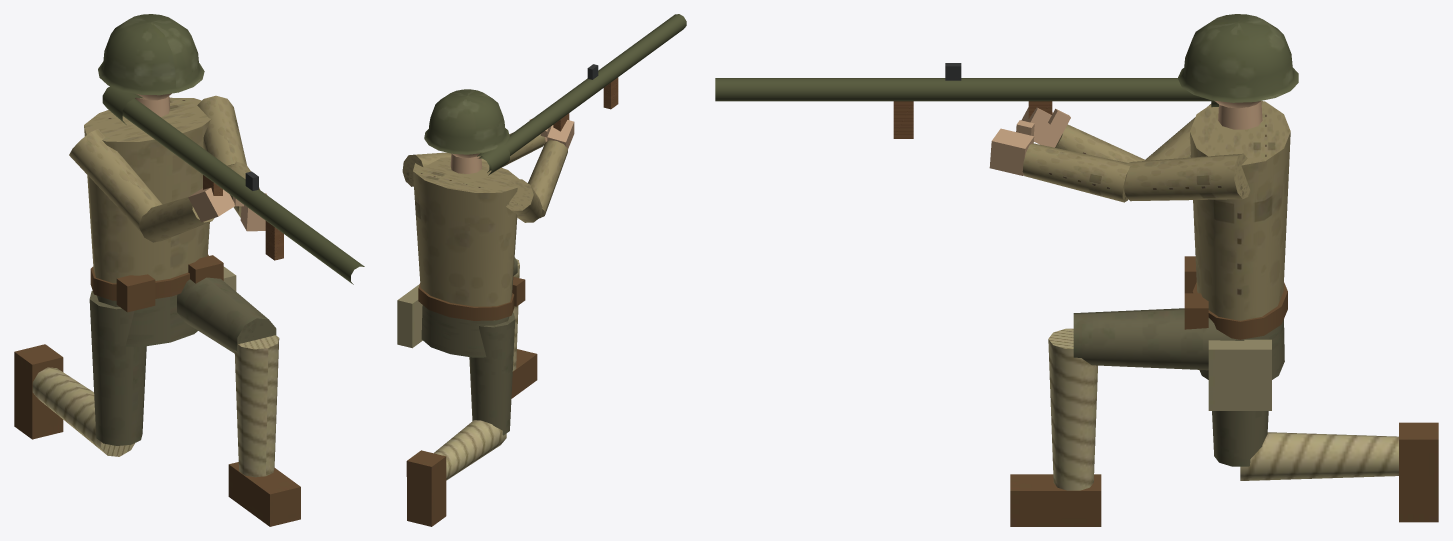
The model's file is infantry-2.glb.
The picture shows the model from 3 angles, left to right: view 1: azimuth 30°, elevation 25°; view 2: azimuth 150°, elevation 25°; view 3: azimuth 270°, elevation 25°; orthographic projection. The views are drawn at different scales.
Parts seen in each view (by area): view 1: body, shin_left, weapon, head, leg_right, shin_right, leg_left, arm_right, forearm_right, arm_left, forearm_left; view 2: body, weapon, shin_right, head, leg_right, forearm_right, shin_left, arm_right, arm_left, forearm_left; view 3: body, weapon, shin_left, shin_right, head, leg_left, forearm_left, arm_left, leg_right, forearm_right, arm_right.
Boxes of the visible parts, x1,y1,x2,y2 form: body: [84, 97, 236, 346]; shin_left: [228, 335, 300, 526]; weapon: [102, 86, 364, 284]; head: [98, 14, 204, 116]; leg_right: [89, 291, 146, 445]; shin_right: [14, 344, 134, 456]; leg_left: [177, 277, 276, 353]; arm_right: [69, 129, 162, 232]; forearm_right: [139, 187, 234, 242]; arm_left: [197, 95, 246, 165]; forearm_left: [227, 161, 266, 231]; body: [397, 157, 525, 357]; weapon: [477, 14, 686, 175]; shin_right: [406, 420, 506, 526]; head: [424, 89, 509, 173]; leg_right: [469, 312, 515, 435]; forearm_right: [528, 120, 574, 218]; shin_left: [511, 259, 537, 398]; arm_right: [504, 179, 542, 222]; arm_left: [402, 152, 486, 186]; forearm_left: [501, 119, 551, 167]; body: [1184, 101, 1290, 410]; weapon: [715, 63, 1218, 138]; shin_left: [1010, 328, 1101, 526]; shin_right: [1240, 422, 1438, 522]; head: [1178, 14, 1298, 129]; leg_left: [1073, 308, 1244, 370]; forearm_left: [989, 120, 1130, 202]; arm_left: [1124, 153, 1250, 201]; leg_right: [1212, 411, 1268, 466]; forearm_right: [1021, 107, 1144, 162]; arm_right: [1145, 104, 1210, 160].
Size of the model in its own units: 0.5204 by 1.41 by 1.82.
7 materials, 7 textured.
